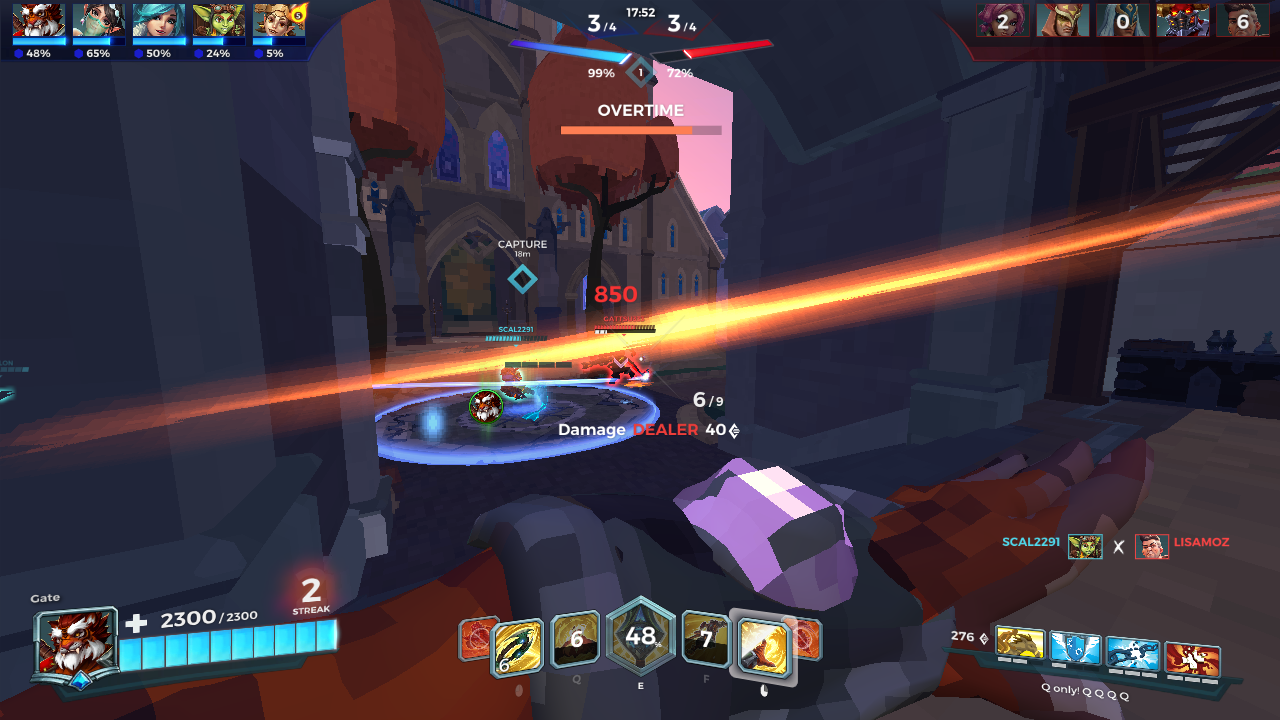model: (579, 338, 653, 393)
